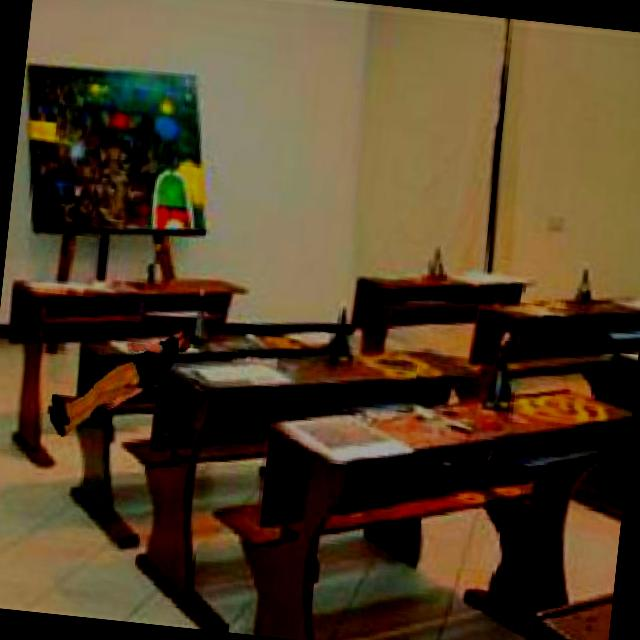Person: (43, 313, 194, 454)
